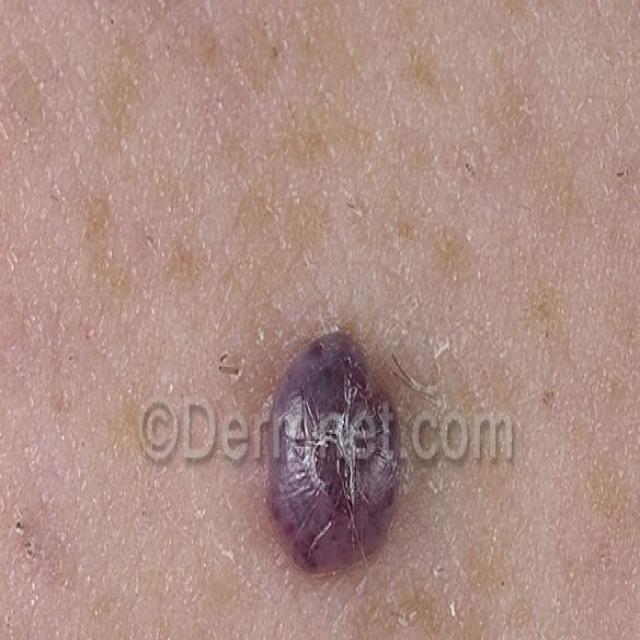Vascular Tumors: (254, 328, 412, 581)
